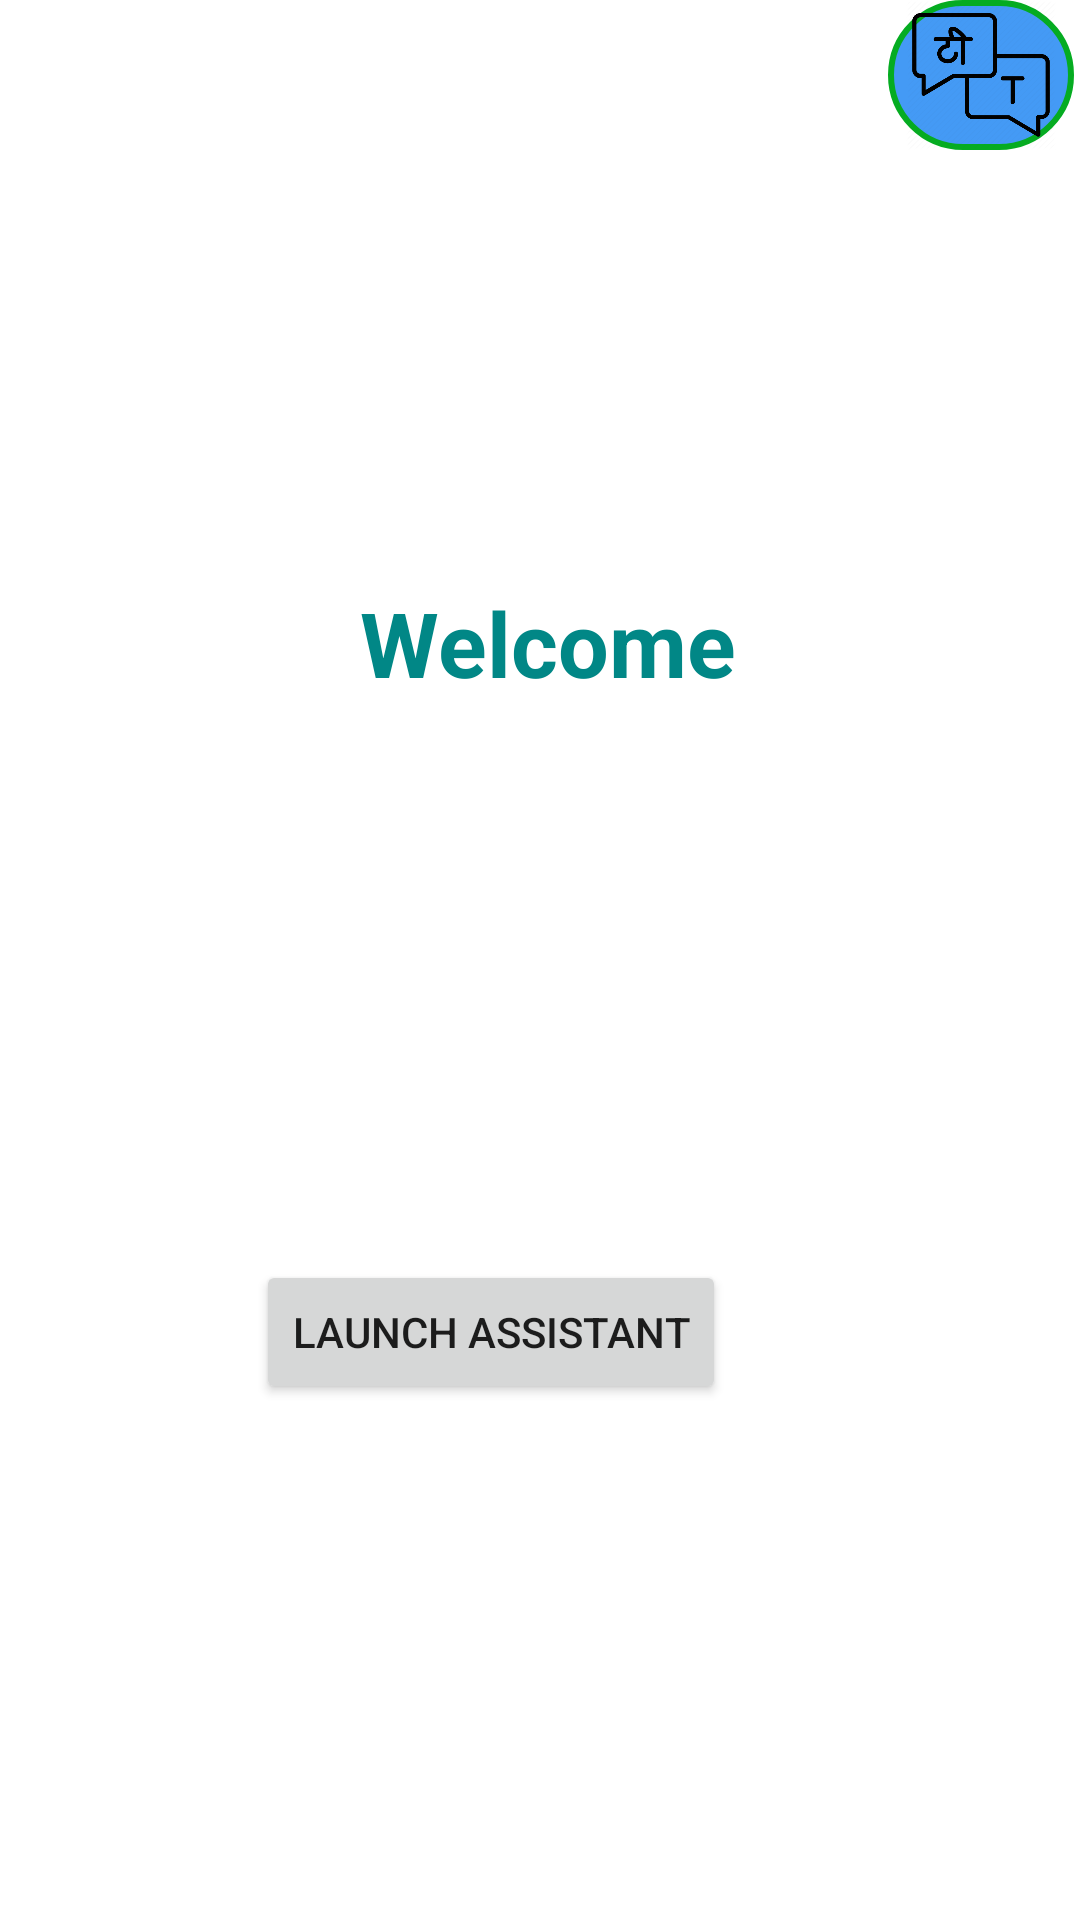

Locate icon controls on the screen. Image size 1080x1920, boxes as rect(x1, y1, x2, y2).
hindi english translation: rect(888, 0, 1074, 150)
